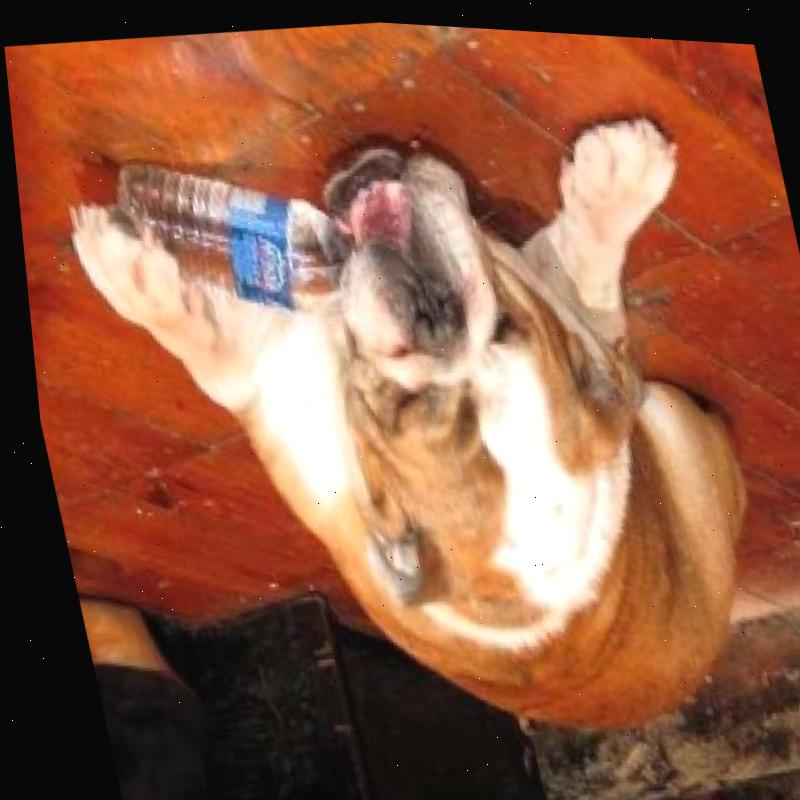botella: (101, 132, 365, 336)
